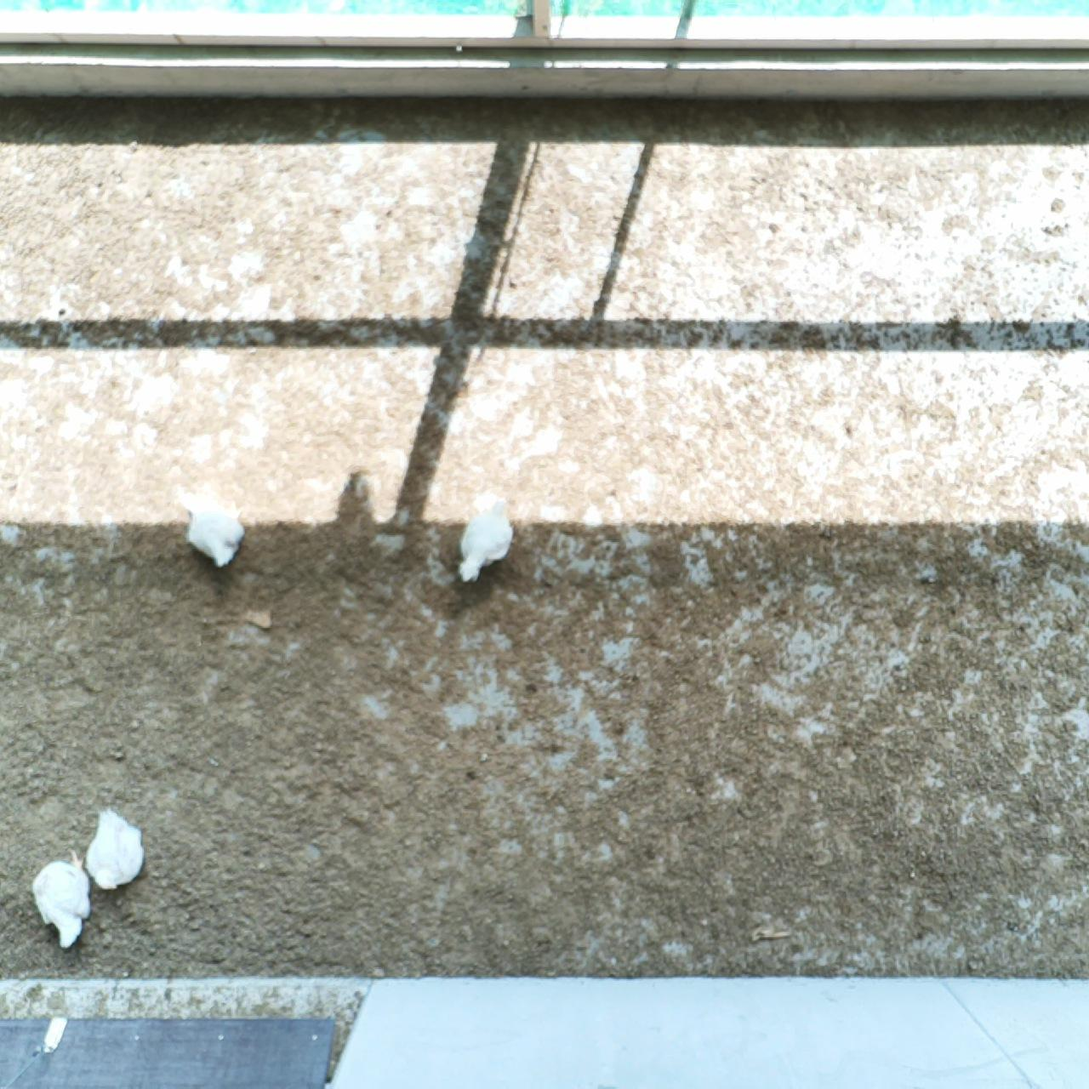chicken: (27, 849, 95, 953), (175, 482, 248, 570), (456, 490, 520, 588), (83, 803, 147, 889)
